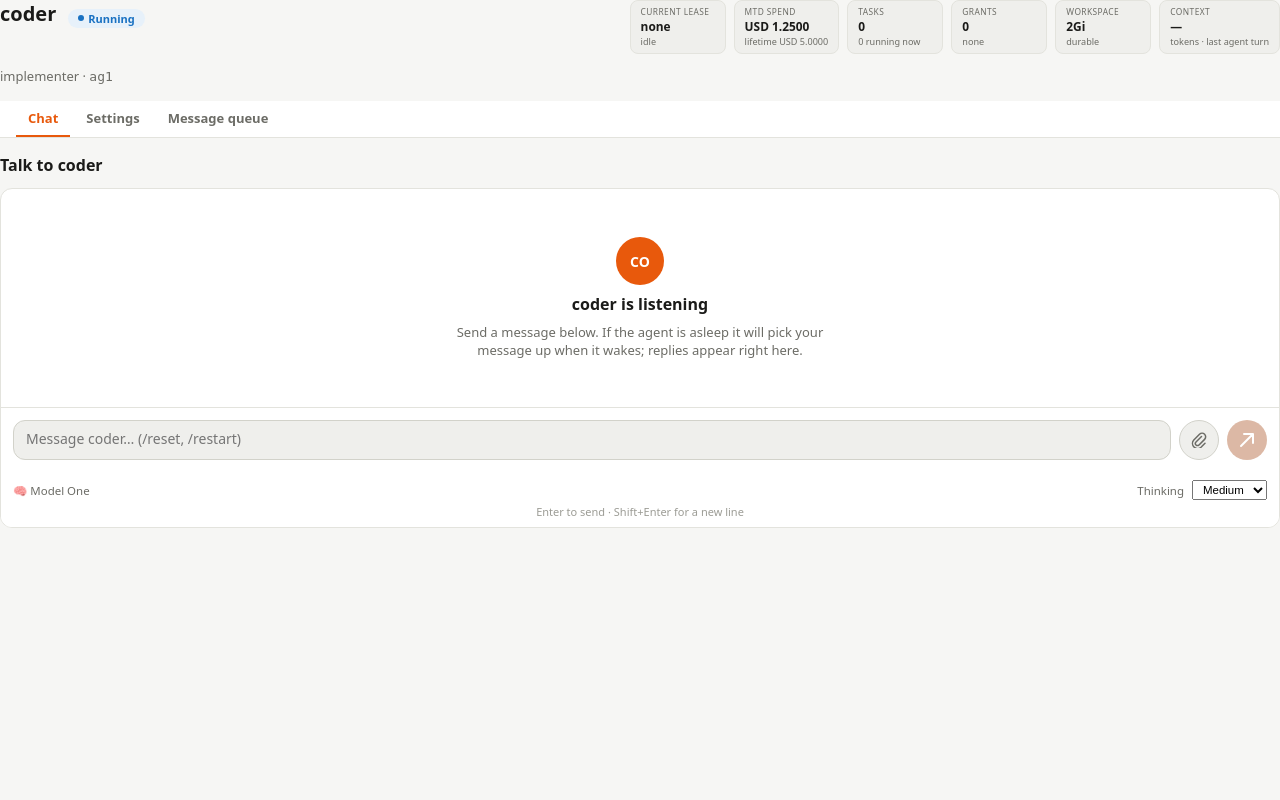
Test: restart flow › restart failure surfaces in the note
This screenshot has width=1280, height=800.
Type "/restart" into the text box with placeholder "Message coder… (/reset, /restart)".
click(592, 440); type("/restart")  # box [13, 420, 1171, 460]
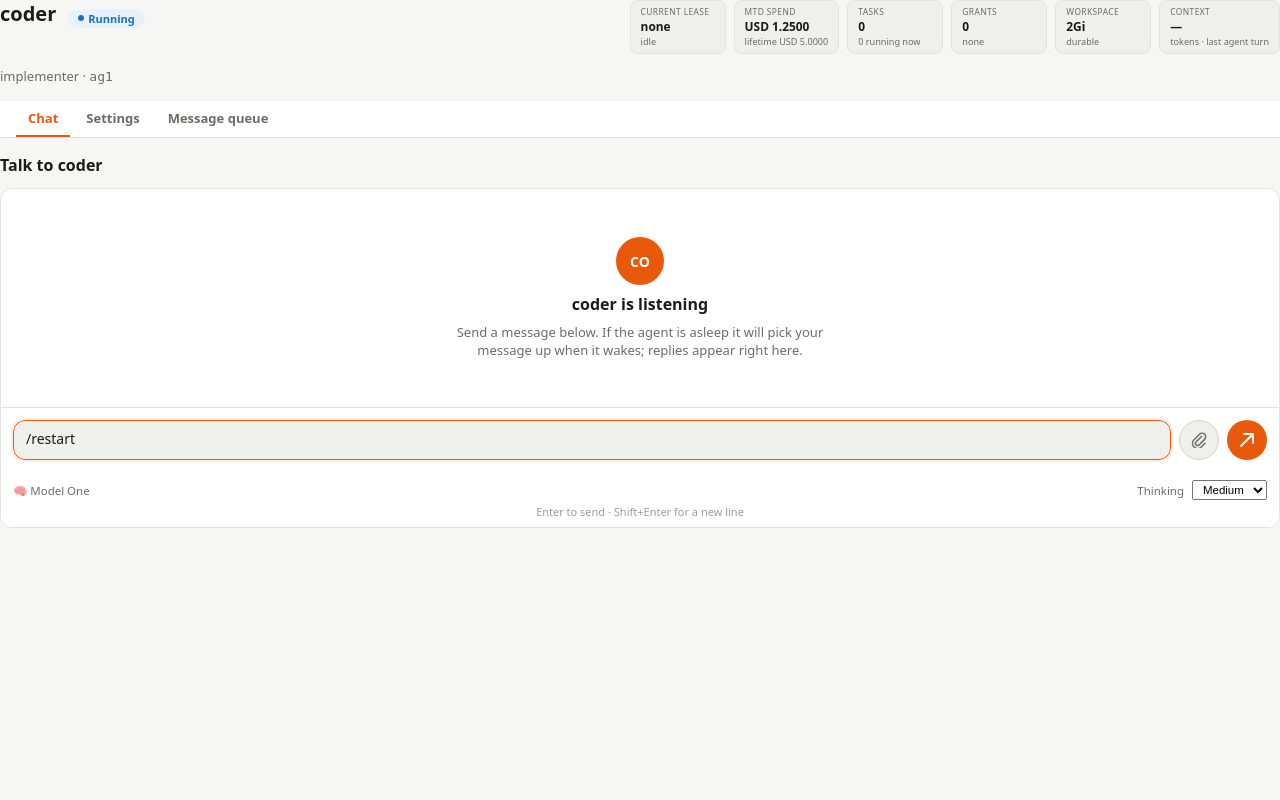
Press Enter
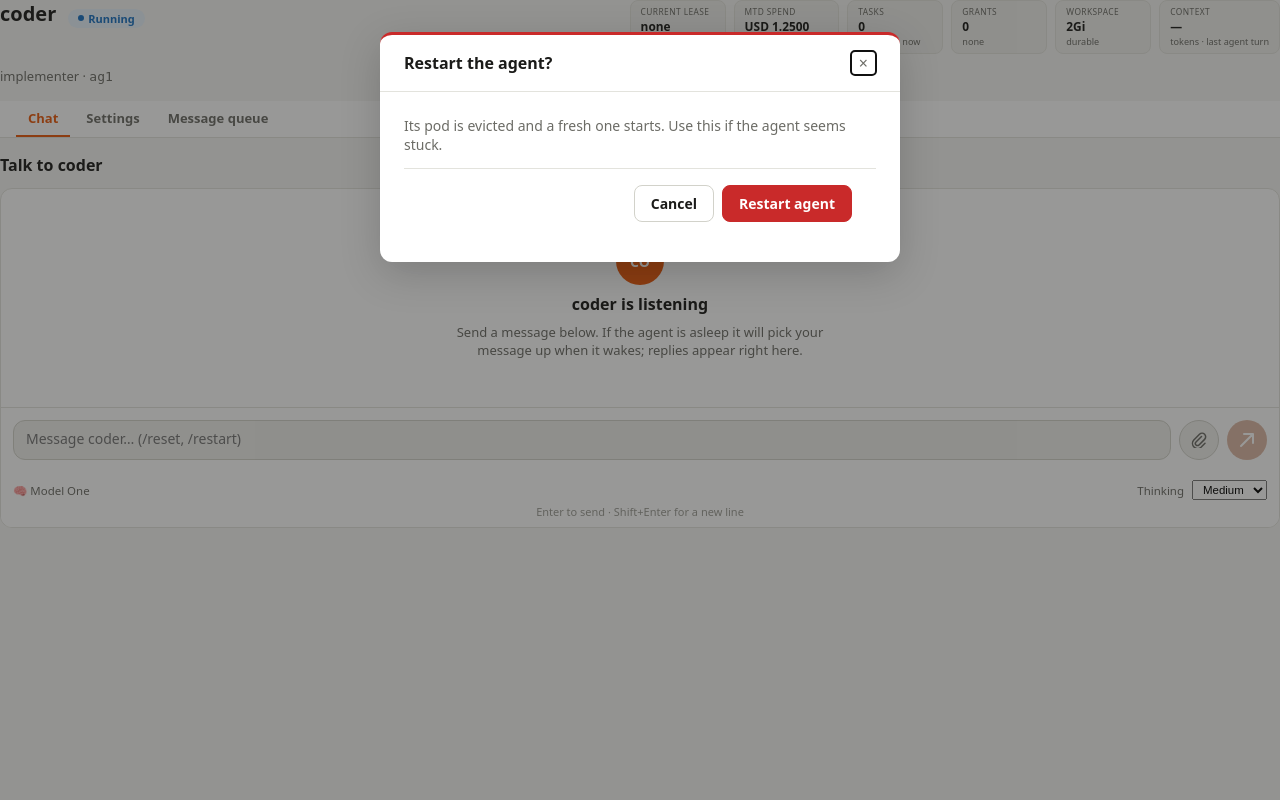
Click the button "Restart agent".
click(787, 204)  # box [722, 185, 852, 222]
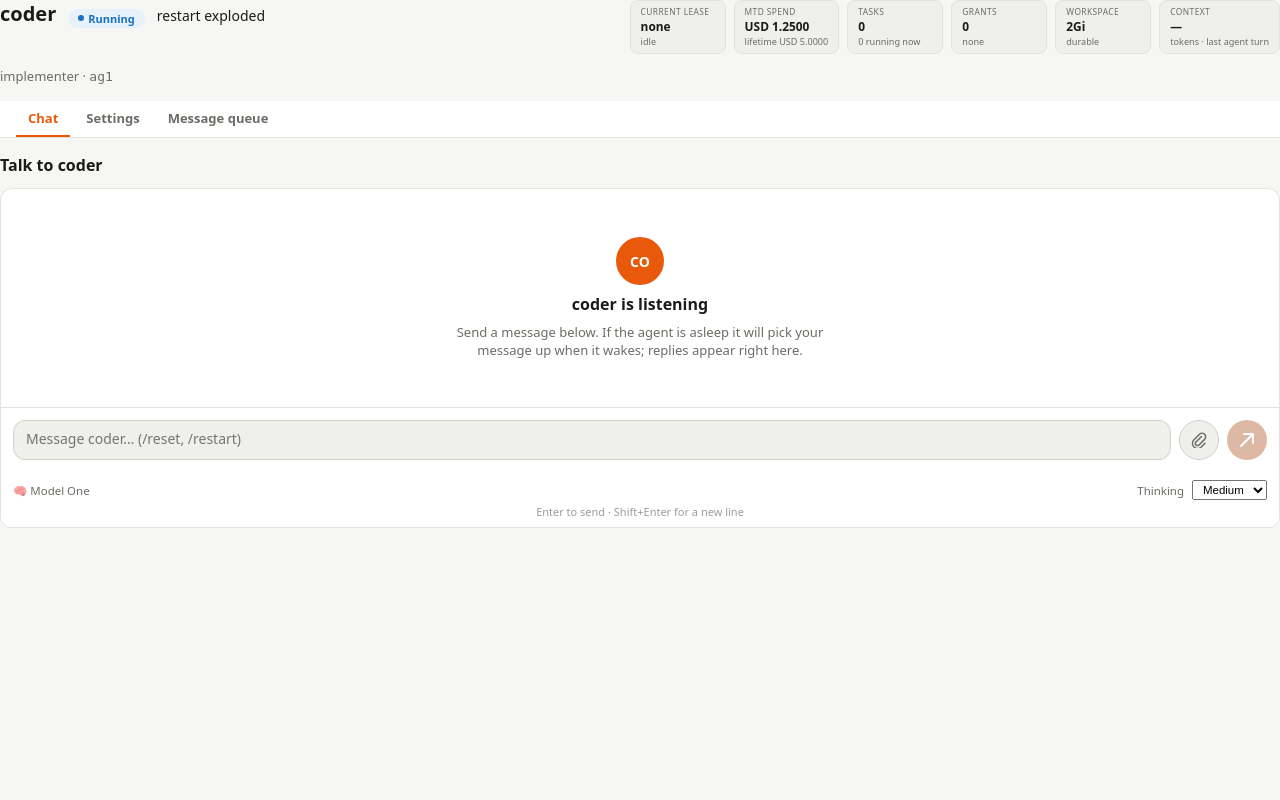
Expected: the text "restart exploded" is shown, [157, 6, 265, 25]
